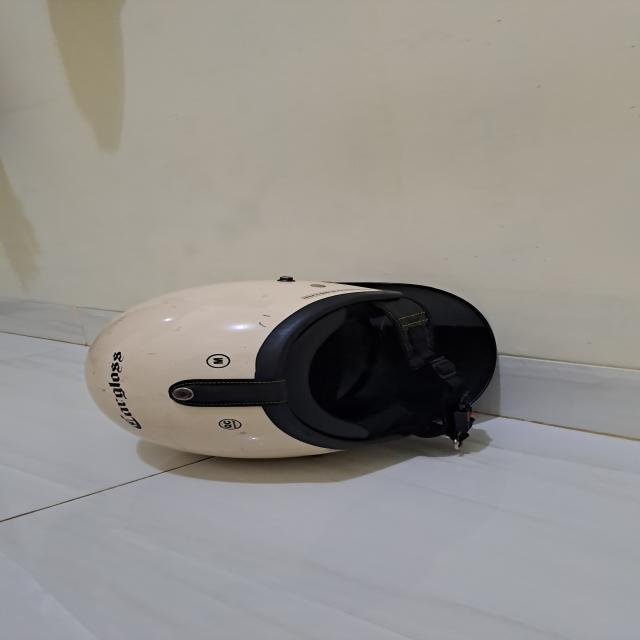Helm: (64, 255, 536, 471)
